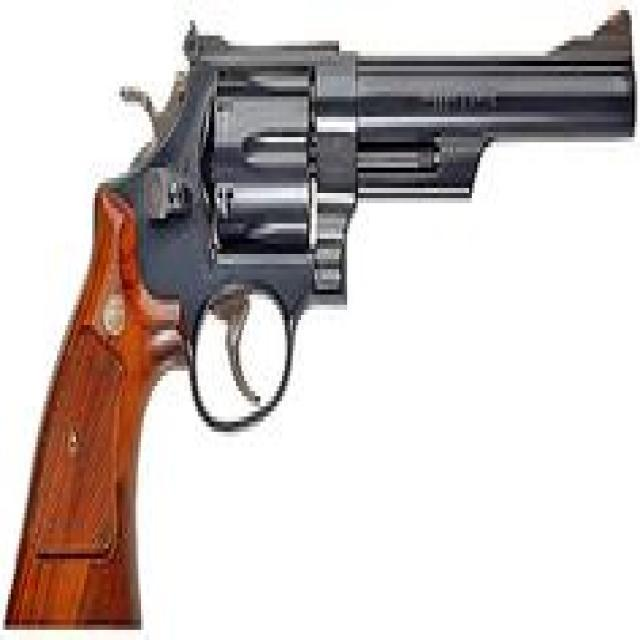revolver: (2, 4, 640, 640)
